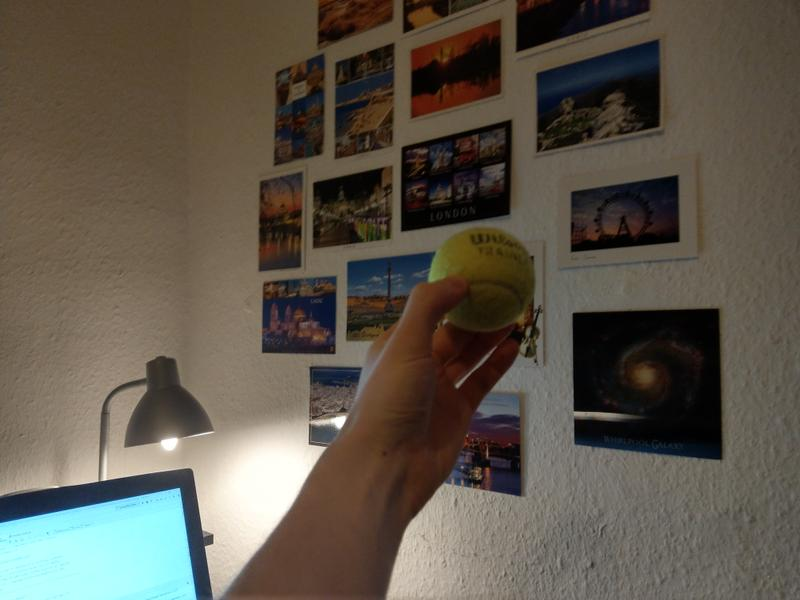Tennisball: (427, 224, 541, 332)
